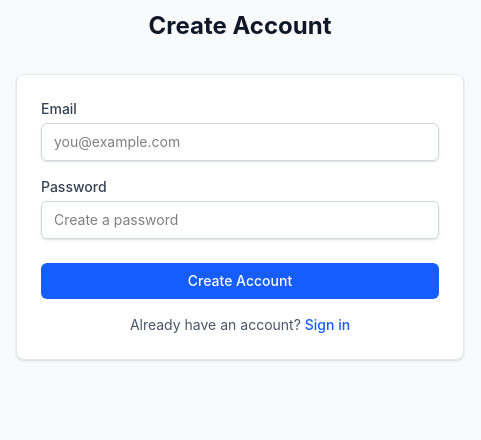
RegisterPage › shows an error banner on 409 (duplicate email)
In the field labelled "Email": (240, 142) 41,123 -> 439,161, type "exists@b.com"
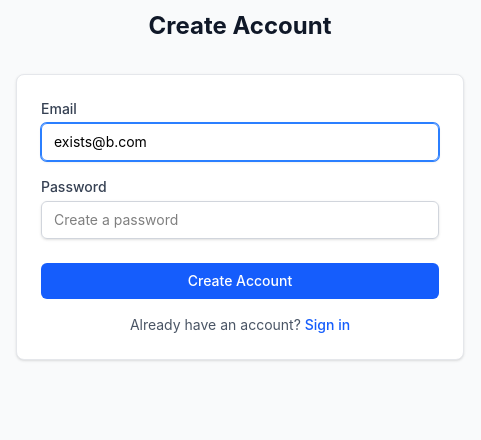
In the password field labelled "Password": (240, 220) 41,201 -> 439,239, type "pwd123"
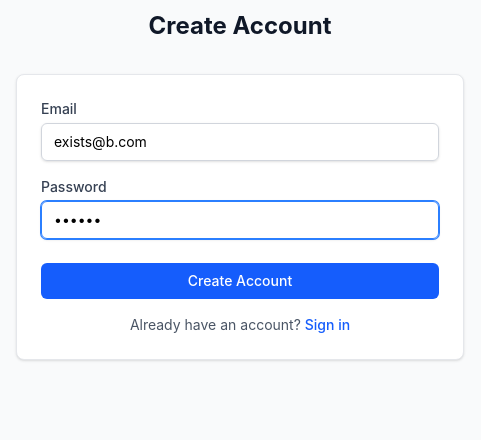
Click the button "Create Account": (240, 281) 41,263 -> 439,299
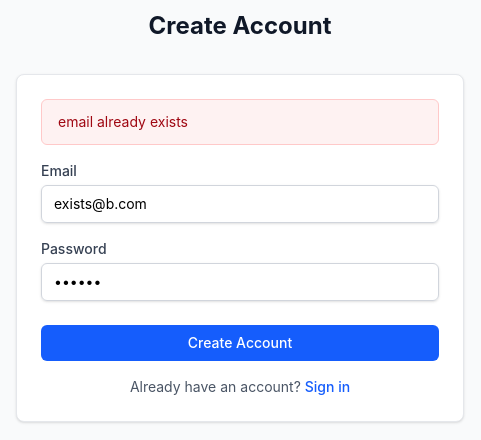
Result: the text "email already exists" is shown at 41,99 -> 439,145
